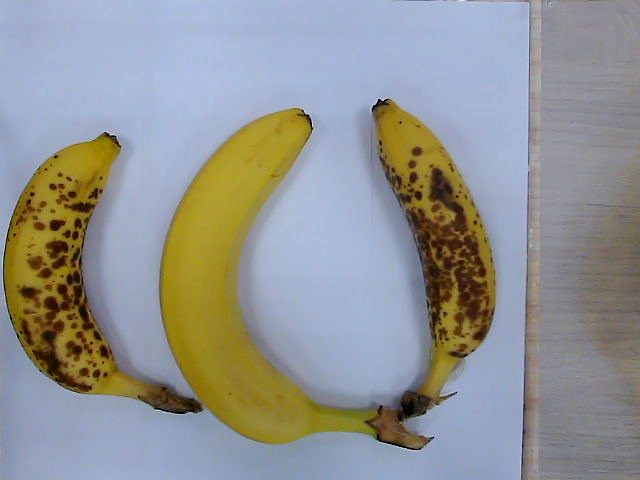fresh_banana: (162, 107, 427, 447)
rotten_banana: (3, 132, 200, 415), (372, 98, 498, 419)
